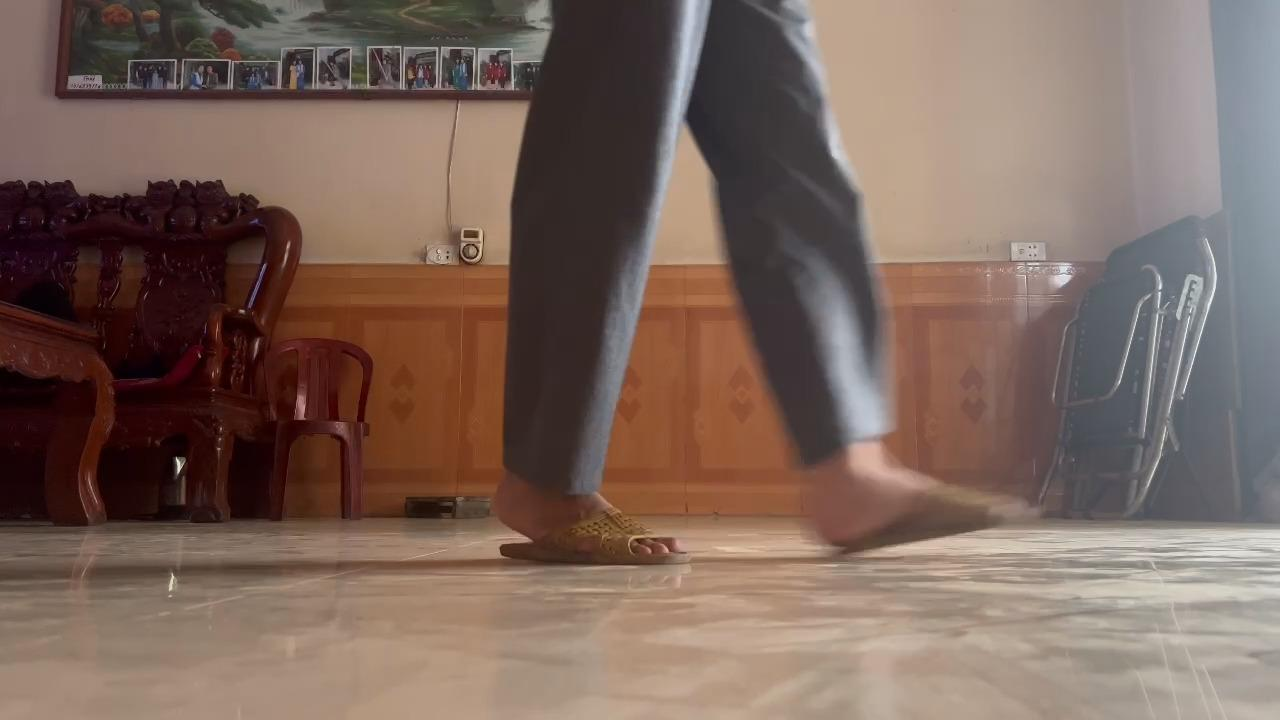no-boot: (787, 476, 1051, 567), (477, 479, 691, 576)
